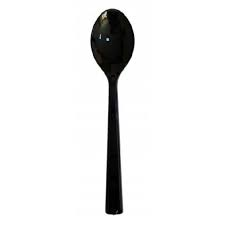spoon: (87, 6, 138, 219)
